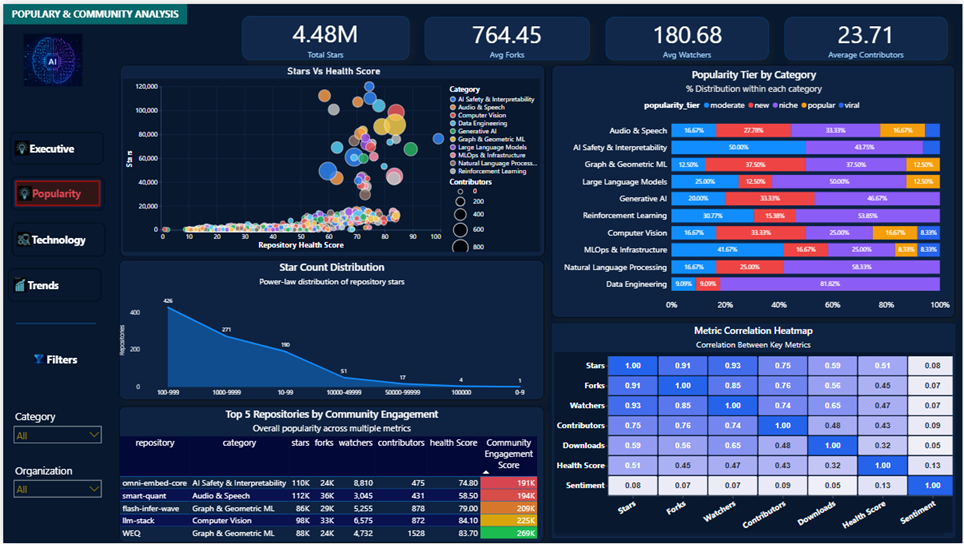

The dashboard page shown, as its layout file describes it:
{"tool":"powerbi","page":{"name":"02. Popularity & Community","canvas":[1920,1080],"ordinal":1},"visuals":[{"type":"textbox","box":[0,0,367.9,41.1],"z":0},{"type":"actionButton","box":[13.1,256.1,186.1,64.9],"z":0},{"type":"card","fields":{"Values":["My Measures.Total Stars"]},"box":[477.8,23.5,335.2,87.7],"z":1000,"group":"g1"},{"type":"image","box":[25.3,59.7,148.4,105],"z":1000},{"type":"actionButton","box":[15.4,345.8,186.1,67.1],"z":1000},{"type":"group","id":"g1","title":"Group 2","box":[477.8,23.5,1413.3,88.7],"z":2000},{"type":"card","fields":{"Values":["My Measures.Average Forks"]},"box":[844.8,25.6,329.4,86.2],"z":2000,"group":"g1"},{"type":"actionButton","box":[17.7,437.5,186.1,67.1],"z":2000},{"type":"card","fields":{"Values":["My Measures.Average Watchers"]},"box":[1205.9,25.3,326.5,86.2],"z":3000,"group":"g1"},{"type":"actionButton","box":[10.8,529.3,186.1,65.8],"z":3000},{"type":"card","fields":{"Values":["My Measures.Average Contributors"]},"box":[1564.1,25,326.5,86.2],"z":4000,"group":"g1"},{"type":"hundredPercentStackedBarChart","title":"Popularity Tier by Category","fields":{"Category":["Repositories.category"],"Series":["Repositories.popularity_tier"],"Y":["CountNonNull(Repositories.repo_id)"]},"box":[1097.2,121.2,807.2,506.4],"z":4000},{"type":"shape","box":[26,627.6,160.1,23.8],"z":5000},{"type":"areaChart","title":"Star Count Distribution","fields":{"Category":["Repositories.Star Range"],"Y":["CountNonNull(Repositories.repo_id)"]},"box":[231.2,512,850.1,280.8],"z":6000},{"type":"actionButton","box":[10.8,675.2,190.4,69.3],"z":7000},{"type":"slicer","title":"Category","fields":{"Values":["Repositoties.category"]},"box":[15.1,811.6,186.1,90.9],"z":8000},{"type":"tableEx","title":"Top 5 Repositories by Community Engagement","fields":{"Values":["Repositories.repo_name","Repositories.category","Repositories.stars","Repositories.forks","Repositories.watchers","Repositories.contributors_count","Repositories.repo_health_score","Repositories.Community Engagement Score"]},"box":[231.2,806.2,850.1,273.2],"z":9000},{"type":"slicer","title":"Organization","fields":{"Values":["Repositoties.organization"]},"box":[15.1,919.8,186.1,71.4],"z":10000},{"type":"deneb7E15AEF80B9E4D4F8E12924291ECE89A","title":"Stars Vs Health Score","fields":{"dataset":["Repositories.repo_name","Repositories.stars","Repositories.repo_health_score","Repositories.contributors_count","Repositories.category","Repositories.organization"]},"box":[233.4,121.2,850.5,383.6],"z":11000},{"type":"deneb7E15AEF80B9E4D4F8E12924291ECE89A","title":"Metric Correlation Heatmap","fields":{"dataset":["CorrelationMatrix.Metric","CorrelationMatrix.Metric2","CorrelationMatrix.Correlation"]},"box":[1097.2,640.6,807.2,430.7],"z":13000}]}

Visuals, with their boxes on the page's 1920x1080 design canvas (x1, y1, x2, y2). These are canvas units, not pixel positions in the 964x544 screenshot, which may show the page scaled, cropped or inside an application window:
textbox: left=0, top=0, right=368, bottom=41
actionButton: left=13, top=256, right=199, bottom=321
card - My Measures.Total Stars: left=478, top=24, right=813, bottom=111
image: left=25, top=60, right=174, bottom=165
actionButton: left=15, top=346, right=202, bottom=413
"Group 2" group: left=478, top=24, right=1891, bottom=112
card - My Measures.Average Forks: left=845, top=26, right=1174, bottom=112
actionButton: left=18, top=438, right=204, bottom=505
card - My Measures.Average Watchers: left=1206, top=25, right=1532, bottom=112
actionButton: left=11, top=529, right=197, bottom=595
card - My Measures.Average Contributors: left=1564, top=25, right=1891, bottom=111
"Popularity Tier by Category" hundredPercentStackedBarChart: left=1097, top=121, right=1904, bottom=628
shape: left=26, top=628, right=186, bottom=651
"Star Count Distribution" areaChart: left=231, top=512, right=1081, bottom=793
actionButton: left=11, top=675, right=201, bottom=744
"Category" slicer: left=15, top=812, right=201, bottom=902
"Top 5 Repositories by Community Engagement" tableEx: left=231, top=806, right=1081, bottom=1079
"Organization" slicer: left=15, top=920, right=201, bottom=991
"Stars Vs Health Score" deneb7E15AEF80B9E4D4F8E12924291ECE89A: left=233, top=121, right=1084, bottom=505
"Metric Correlation Heatmap" deneb7E15AEF80B9E4D4F8E12924291ECE89A: left=1097, top=641, right=1904, bottom=1071
